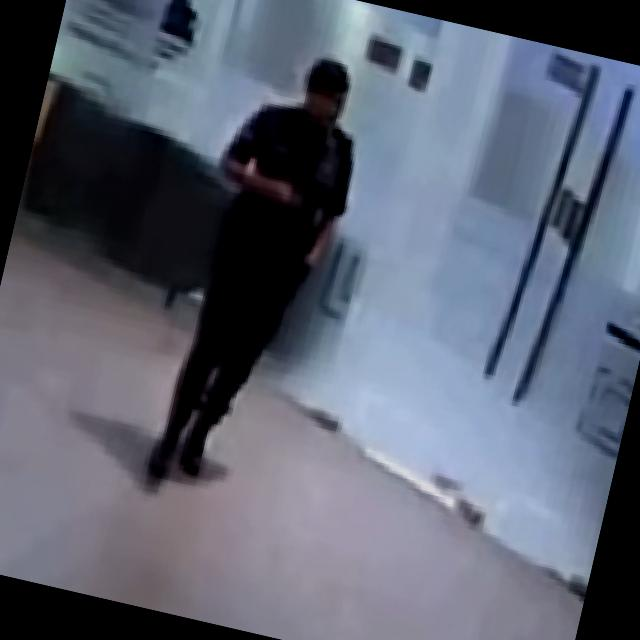person: (138, 39, 380, 508)
